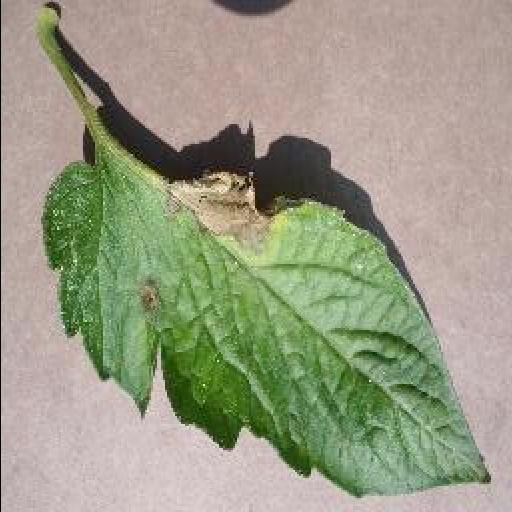disease_tomato: (42, 164, 492, 498)
